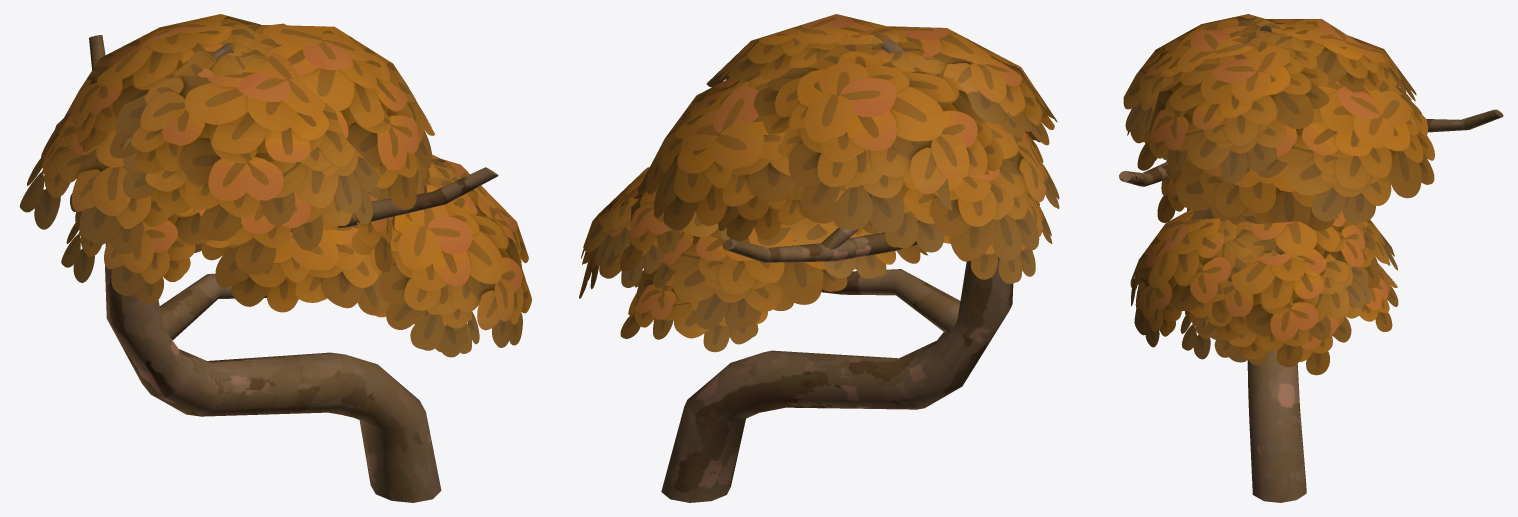
File: tree_4.gltf
3 renders of one model, left to right at view 1: azimuth 30°, elevation 25°; view 2: azimuth 150°, elevation 25°; view 3: azimuth 270°, elevation 25°, orthographic. The views are drawn at different scales.
Visible parts, largest first — view 1: Tree_10; view 2: Tree_10; view 3: Tree_10.
Part boxes in pixels (box(x1,y1,x2,y2)): Tree_10: box(19, 14, 531, 502); Tree_10: box(579, 14, 1059, 502); Tree_10: box(1119, 14, 1503, 502).
Bounding box in the file's own units: 4.28 × 4.35 × 3.98.
2 materials, 2 textured.
